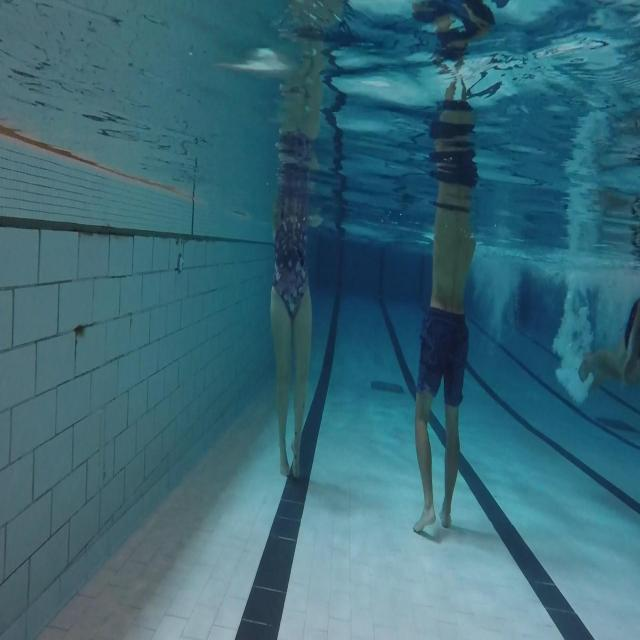human: (412, 76, 480, 534), (269, 127, 318, 479), (578, 296, 640, 392)
